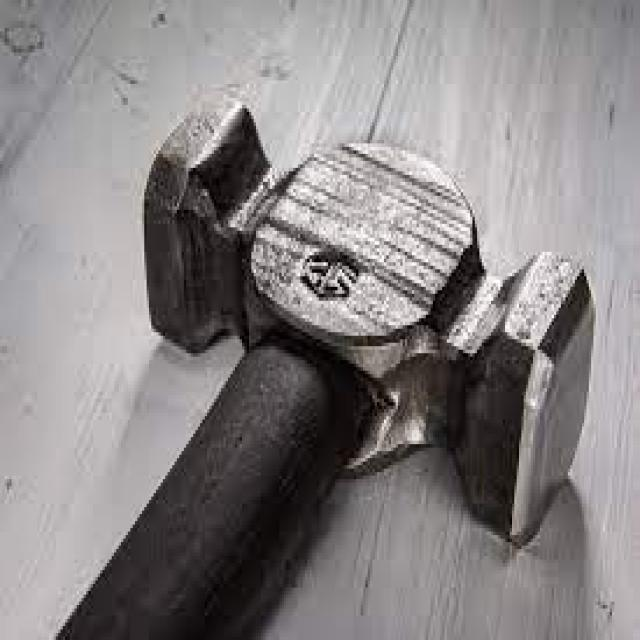hammer: (49, 94, 596, 640)
